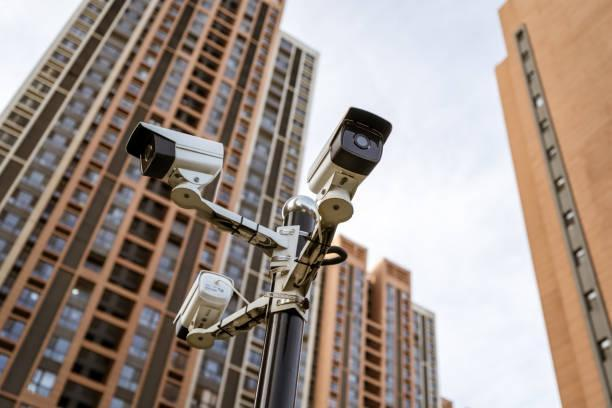camera: (103, 95, 239, 217), (301, 94, 408, 224), (137, 266, 257, 355), (269, 190, 319, 269)
